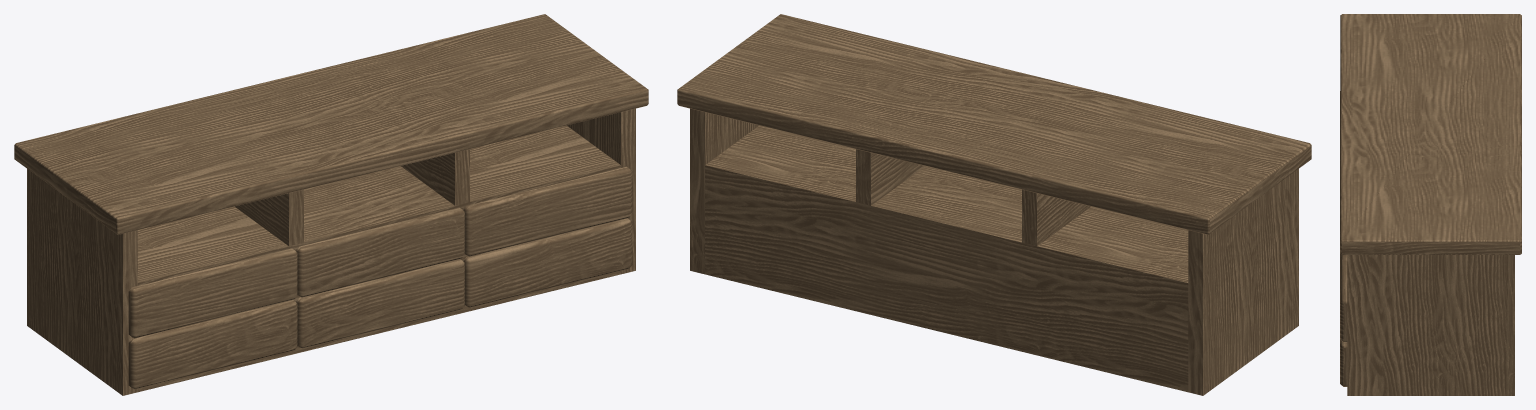
Rendered from dresser_002.fbx.
3 views of the same model, side by side, from view 1: azimuth 30°, elevation 25°; view 2: azimuth 150°, elevation 25°; view 3: azimuth 270°, elevation 25° (orthographic). The views are drawn at different scales.
Visible parts, largest first — view 1: dresser_002; view 2: dresser_002; view 3: dresser_002.
Part boxes in pixels (x1=…): dresser_002: x1=14, y1=14, x2=648, y2=395; dresser_002: x1=677, y1=14, x2=1311, y2=395; dresser_002: x1=1340, y1=14, x2=1521, y2=395.
Bounding box in the file's own units: 228 × 77.06 × 74.62.
